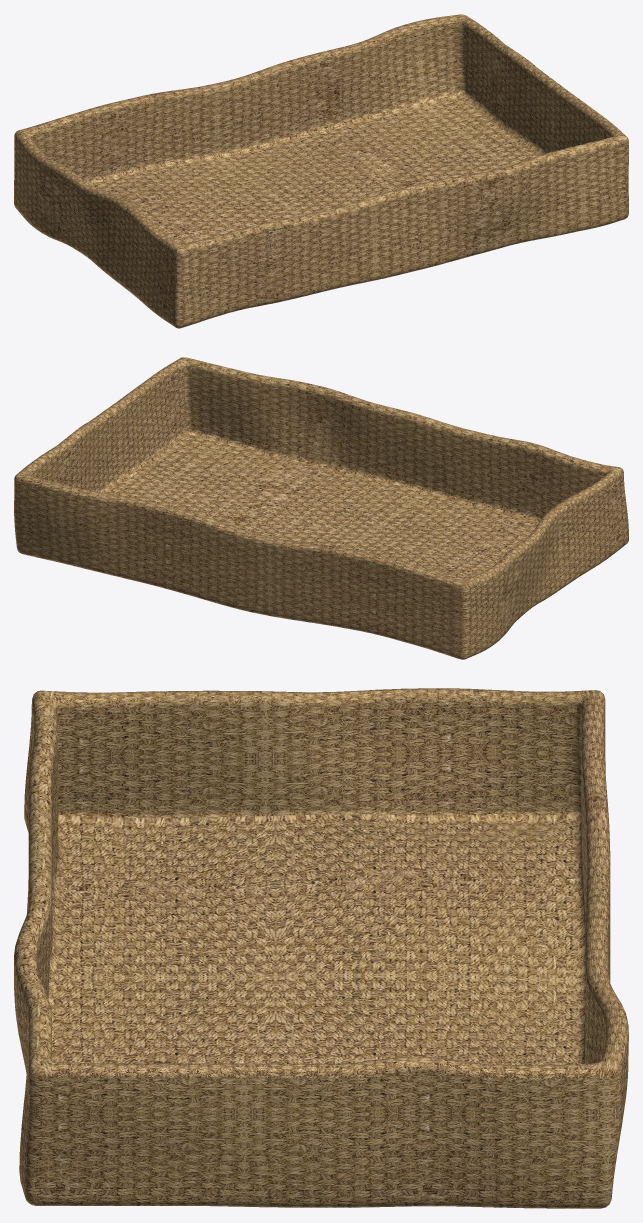
File: Coir2.fbx
The picture shows the model from 3 angles, top to bottom: view 1: azimuth 30°, elevation 25°; view 2: azimuth 150°, elevation 25°; view 3: azimuth 270°, elevation 25°; orthographic projection. The views are drawn at different scales.
Visible parts, largest first — view 1: coir2; view 2: coir2; view 3: coir2.
Boxes of the visible parts, x1,y1,x2,y2 form: coir2: [14, 14, 628, 328]; coir2: [14, 357, 628, 659]; coir2: [14, 688, 628, 1208].
Bounding box in the file's own units: 21 × 3.79 × 13.79.
1 material, 1 textured.
